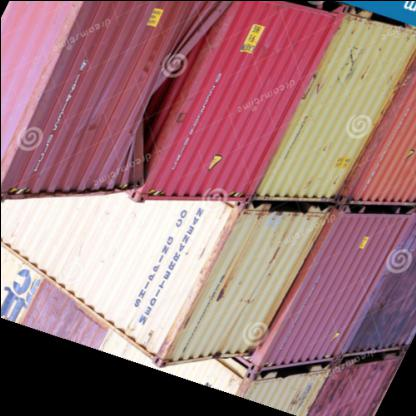Damage: (114, 46, 190, 192)
